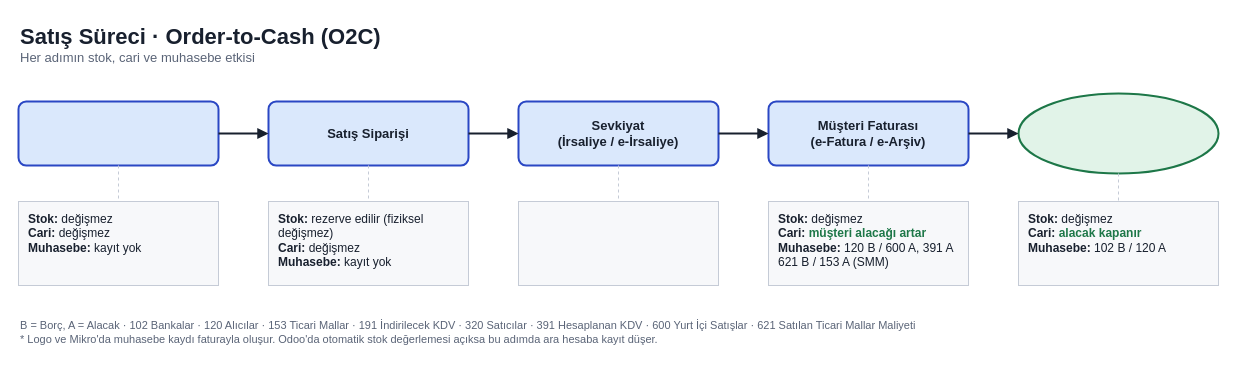
This 1236x388 diagram has some shape labels left out. The shapes that lost their labels are listed below. From the top down, each one's centre as x and y in pixels, then its label:
the point at 118,133: Satış Teklifi
the point at 1118,133: Tahsilat
the point at 618,243: Stok: azalır Cari: değişmez Muhasebe: kayıt yok*
